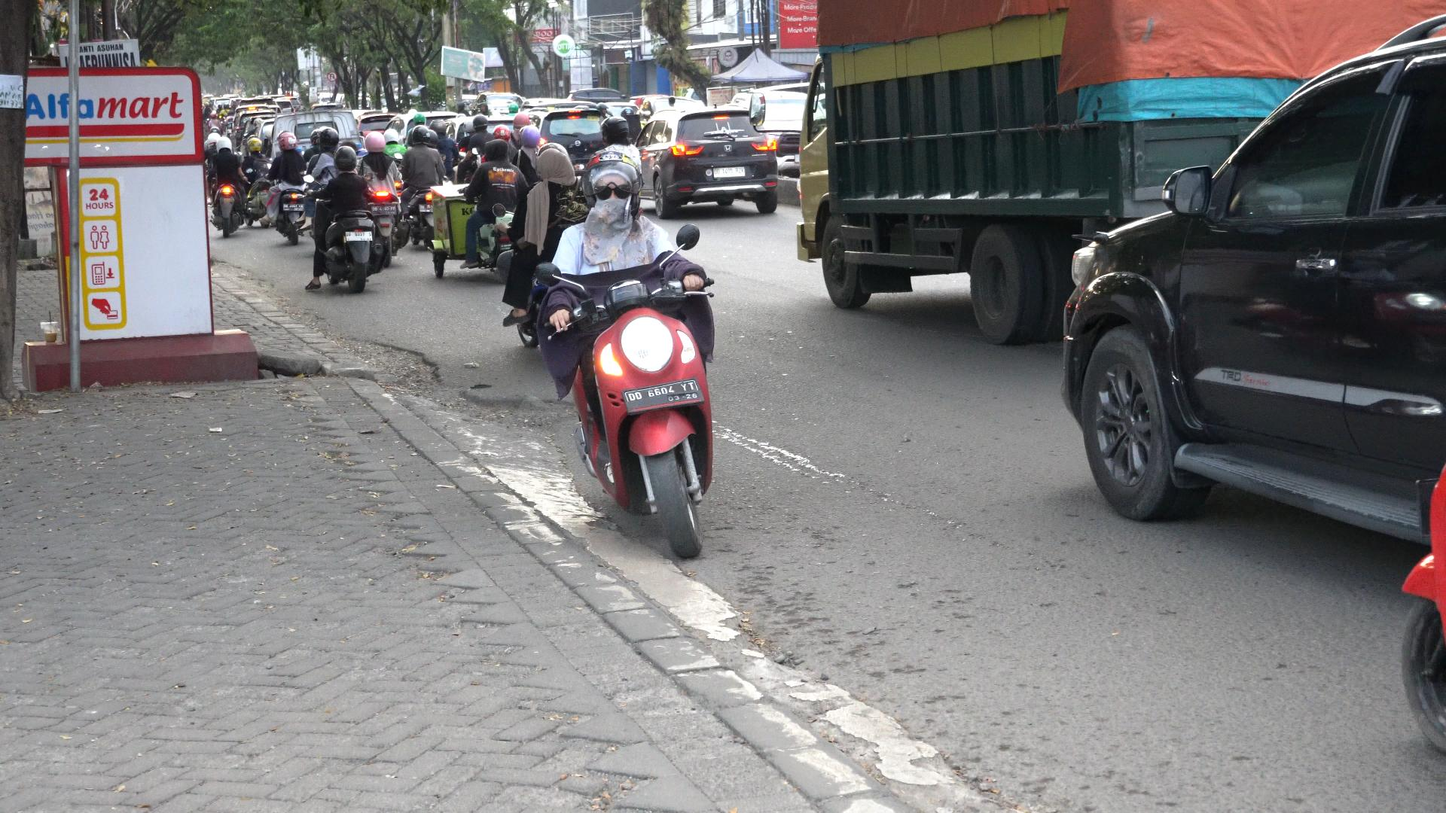number-plate: (624, 380, 708, 409)
